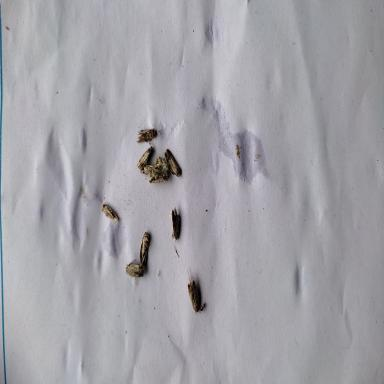pbw: (184, 268, 201, 314), (165, 148, 183, 179), (139, 230, 153, 269), (134, 126, 159, 147), (135, 146, 153, 172), (124, 258, 144, 278), (170, 208, 180, 242), (101, 204, 118, 222), (146, 174, 170, 184), (141, 165, 155, 174)
